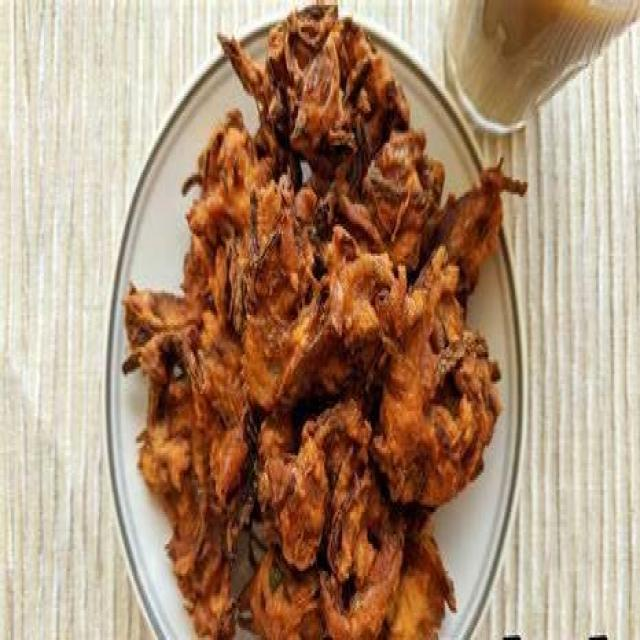Onion Pakora: (116, 0, 528, 640)
